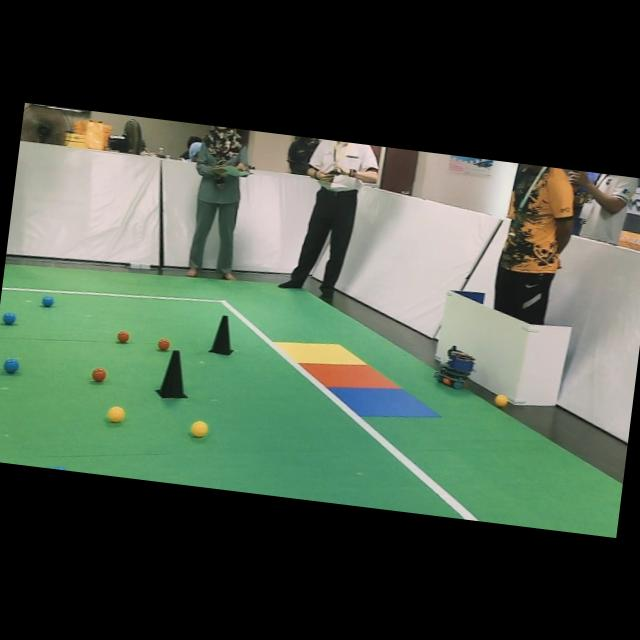ball: (107, 405, 125, 422), (190, 421, 208, 437), (91, 367, 107, 382), (3, 358, 19, 372), (494, 394, 508, 407), (2, 312, 16, 324), (157, 338, 170, 350), (117, 330, 129, 342), (41, 295, 54, 306)
goal: (329, 387, 439, 416), (301, 362, 400, 389), (274, 341, 365, 365)
